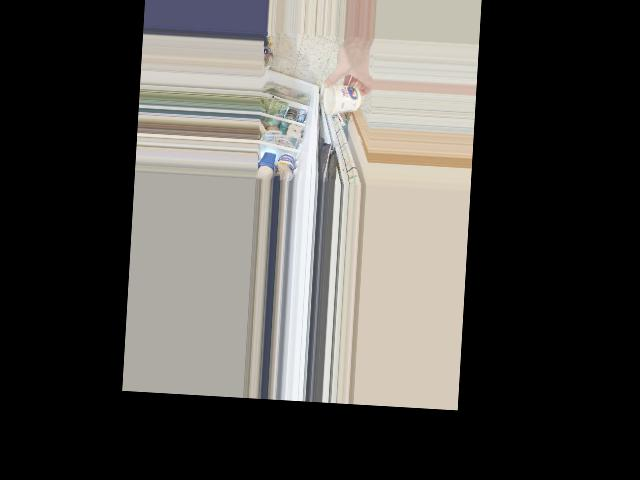cotage: (319, 75, 365, 117)
